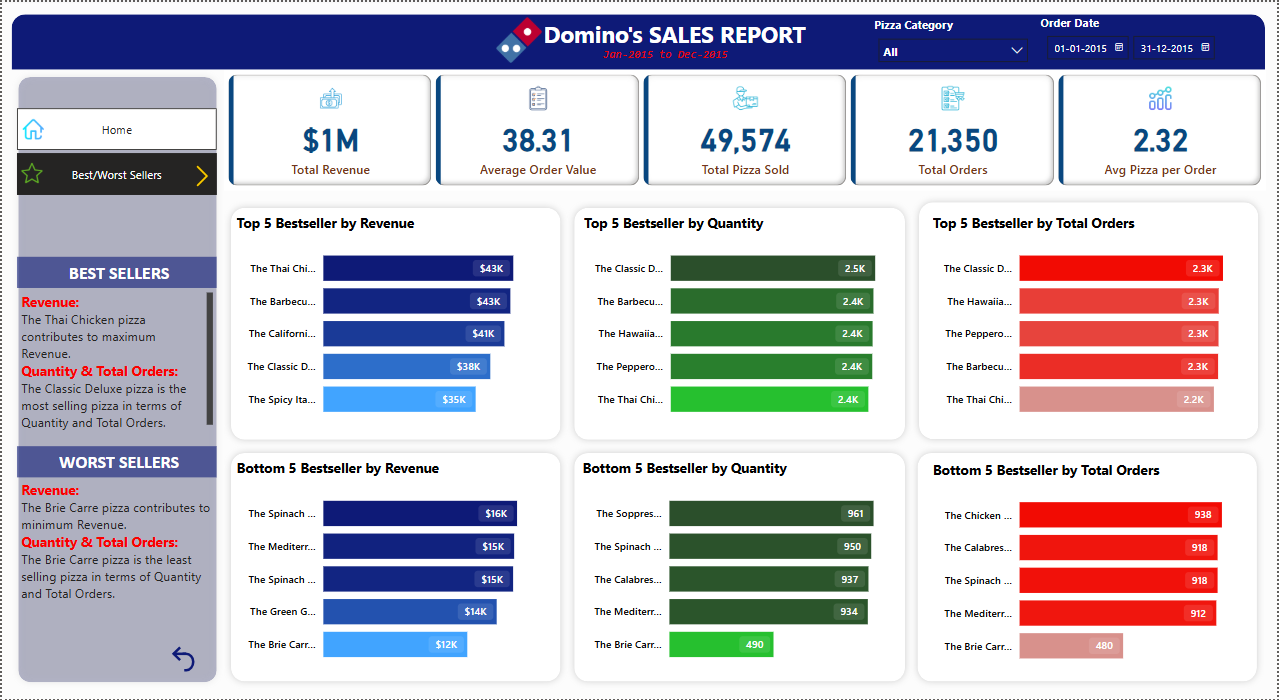

What the dashboard file says about the page in this screenshot:
{"tool":"powerbi","page":{"name":"Best/Worst Sellers","canvas":[1500,820],"ordinal":1},"visuals":[{"type":"cardVisual","fields":{"Data":["MeasuresTable.Total Revenue","MeasuresTable.Average Order Value","MeasuresTable.Total Pizza Sold","MeasuresTable.Total Orders","MeasuresTable.Avg Pizza per Order"]},"box":[260.7,79.3,1225.5,141.7],"z":0},{"type":"shape","box":[11.3,14.2,1474.8,65.2],"z":1000},{"type":"textbox","box":[609.2,14.2,364.1,45.3],"z":2000},{"type":"textbox","box":[701.3,46.8,181.3,29.8],"z":3000},{"type":"image","box":[569.5,12.8,77.9,63.8],"z":4000},{"type":"shape","box":[260.7,233.8,403.8,289],"z":5000},{"type":"shape","box":[11.3,79.3,249.3,728.2],"z":6000},{"type":"textbox","box":[18.4,522.8,235.2,36.8],"z":7000},{"type":"slicer","title":"Pizza Category","fields":{"Values":["pizza_sales.pizza_category"]},"box":[1021.5,18.4,195.5,56.7],"z":8000},{"type":"actionButton","box":[194.1,753.7,45.3,39.7],"z":9000},{"type":"slicer","title":"Order Date","fields":{"Values":["pizza_sales.order_date"]},"box":[1217,14.2,249.3,65.2],"z":10000},{"type":"shape","box":[664.4,233.8,405.2,289],"z":11000},{"type":"shape","box":[1071,228.1,415.1,294.7],"z":12000},{"type":"shape","box":[260.7,522.8,403.8,284.8],"z":13000},{"type":"shape","box":[665.9,522.8,405.2,284.8],"z":14000},{"type":"shape","box":[1069.6,522.8,415.1,284.8],"z":15000},{"type":"barChart","title":"Top 5 Bestseller by Revenue","fields":{"Category":["pizza_sales.pizza_name"],"Y":["MeasuresTable.Total Revenue"]},"box":[270.6,247.9,376.9,255],"z":16000},{"type":"barChart","title":"Bottom 5 Bestseller by Revenue","fields":{"Category":["pizza_sales.pizza_name"],"Y":["MeasuresTable.Total Revenue"]},"box":[270.6,536.9,376.9,255],"z":17000},{"type":"barChart","title":"Top 5 Bestseller by Quantity","fields":{"Category":["pizza_sales.pizza_name"],"Y":["MeasuresTable.Total Pizza Sold"]},"box":[680,247.9,376.9,255],"z":18000},{"type":"barChart","title":"Bottom 5 Bestseller by Quantity","fields":{"Category":["pizza_sales.pizza_name"],"Y":["MeasuresTable.Total Pizza Sold"]},"box":[678.6,536.9,376.9,255],"z":19000},{"type":"barChart","title":"Top 5 Bestseller by Total Orders","fields":{"Category":["pizza_sales.pizza_name"],"Y":["MeasuresTable.Total Orders"]},"box":[1089.5,247.9,376.9,255],"z":20000},{"type":"barChart","title":"Bottom 5 Bestseller by Total Orders","fields":{"Category":["pizza_sales.pizza_name"],"Y":["MeasuresTable.Total Orders"]},"box":[1089.5,538.4,376.9,255],"z":21000},{"type":"textbox","box":[18.4,558.2,235.2,195.5],"z":22000},{"type":"textbox","box":[18.4,300.3,235.2,36.8],"z":23000},{"type":"textbox","box":[18.4,337.2,235.2,185.6],"z":24000},{"type":"pageNavigator","box":[18.4,178.5,235.2,49.6],"z":25000},{"type":"pageNavigator","box":[18.4,124.7,235.2,49.6],"z":26000},{"type":"image","box":[218.2,182.8,35.4,43.9],"z":27000},{"type":"image","box":[19.8,131.8,35.4,36.8],"z":28000},{"type":"image","box":[18.4,177.1,35.4,49.6],"z":28001}]}

Visuals, with their boxes in screenshot pixels (x1, y1, x2, y2), scaled from the page's 1500x820 canvas onto the 1279x700 screenshot:
cardVisual - MeasuresTable.Total Revenue x MeasuresTable.Average Order Value: box=[222, 68, 1267, 189]
shape: box=[10, 12, 1267, 68]
textbox: box=[519, 12, 830, 51]
textbox: box=[598, 40, 753, 65]
image: box=[486, 11, 552, 65]
shape: box=[222, 200, 567, 446]
shape: box=[10, 68, 222, 689]
textbox: box=[16, 446, 216, 478]
"Pizza Category" slicer: box=[871, 16, 1038, 64]
actionButton: box=[166, 643, 204, 677]
"Order Date" slicer: box=[1038, 12, 1250, 68]
shape: box=[567, 200, 912, 446]
shape: box=[913, 195, 1267, 446]
shape: box=[222, 446, 567, 689]
shape: box=[568, 446, 913, 689]
shape: box=[912, 446, 1266, 689]
"Top 5 Bestseller by Revenue" barChart: box=[231, 212, 552, 429]
"Bottom 5 Bestseller by Revenue" barChart: box=[231, 458, 552, 676]
"Top 5 Bestseller by Quantity" barChart: box=[580, 212, 901, 429]
"Bottom 5 Bestseller by Quantity" barChart: box=[579, 458, 900, 676]
"Top 5 Bestseller by Total Orders" barChart: box=[929, 212, 1250, 429]
"Bottom 5 Bestseller by Total Orders" barChart: box=[929, 460, 1250, 677]
textbox: box=[16, 477, 216, 643]
textbox: box=[16, 256, 216, 288]
textbox: box=[16, 288, 216, 446]
pageNavigator: box=[16, 152, 216, 195]
pageNavigator: box=[16, 106, 216, 149]
image: box=[186, 156, 216, 194]
image: box=[17, 113, 47, 144]
image: box=[16, 151, 46, 194]
